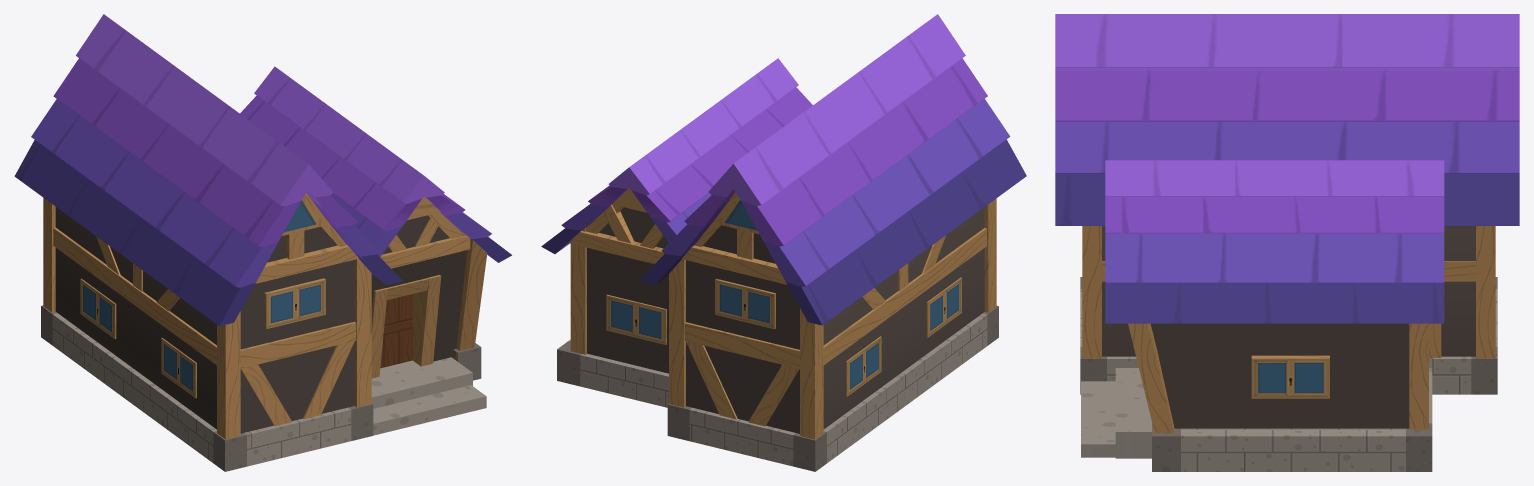
The model's file is building_spell_lv3.FBX.
3 renders of one model, left to right at view 1: azimuth 30°, elevation 25°; view 2: azimuth 150°, elevation 25°; view 3: azimuth 270°, elevation 25°, orthographic. The views are drawn at different scales.
Visible parts, largest first — view 1: building_spell_roof_lv3, building_spell_lv3, building_spell_main_lv3, building_spell_under_lv3; view 2: building_spell_roof_lv3, building_spell_lv3, building_spell_main_lv3, building_spell_under_lv3; view 3: building_spell_roof_lv3, building_spell_main_lv3, building_spell_under_lv3, building_spell_lv3.
Part boxes in pixels (box(x1,y1,x2,y2)): building_spell_roof_lv3: box(14, 14, 511, 326); building_spell_lv3: box(43, 193, 487, 439); building_spell_main_lv3: box(55, 207, 466, 433); building_spell_under_lv3: box(41, 305, 486, 471); building_spell_roof_lv3: box(541, 14, 1026, 325); building_spell_lv3: box(568, 188, 996, 439); building_spell_main_lv3: box(587, 207, 984, 433); building_spell_under_lv3: box(557, 306, 998, 471); building_spell_roof_lv3: box(1055, 14, 1519, 323); building_spell_main_lv3: box(1102, 226, 1475, 428); building_spell_under_lv3: box(1080, 277, 1497, 471); building_spell_lv3: box(1082, 226, 1495, 433).
Size of the model in its own units: 422 by 382 by 475.
